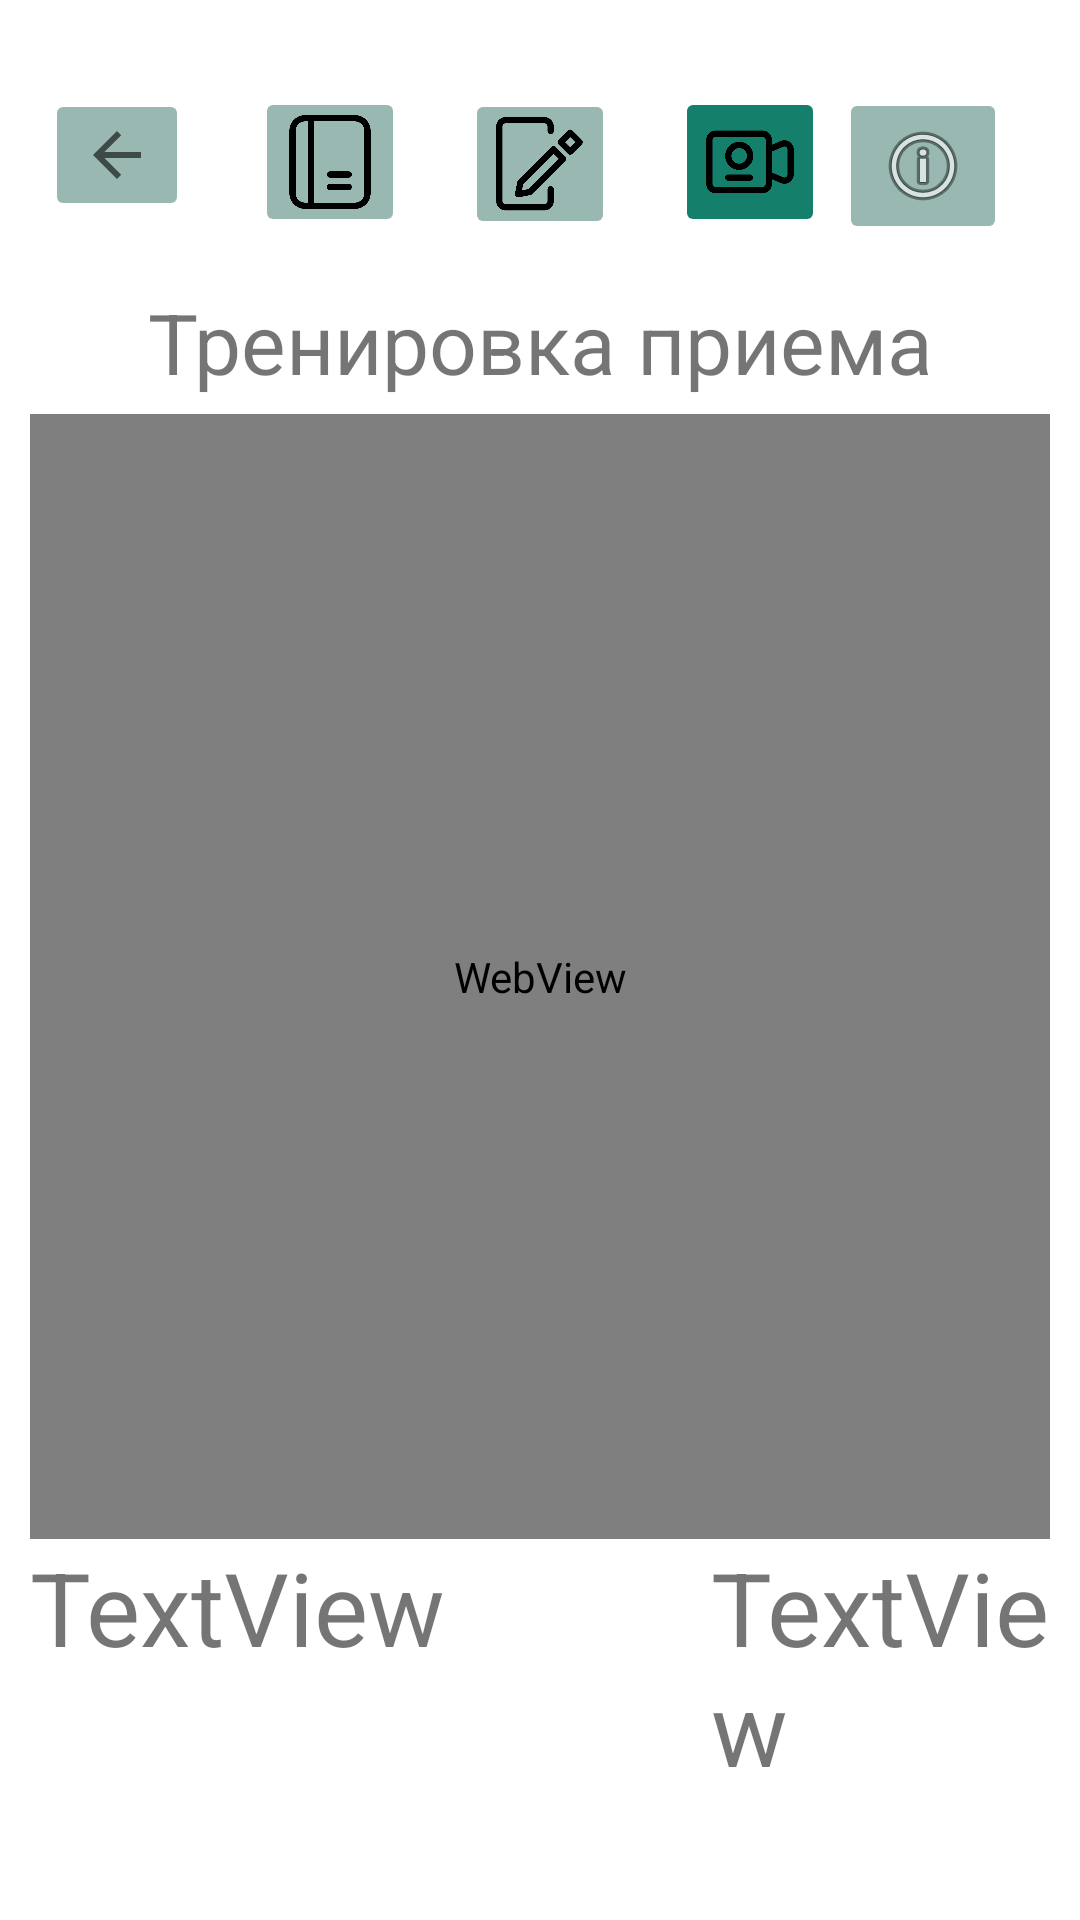

Icon click points for this 1080px x 1920px phone screenshot, format (x,y):
info details: (923,166)
